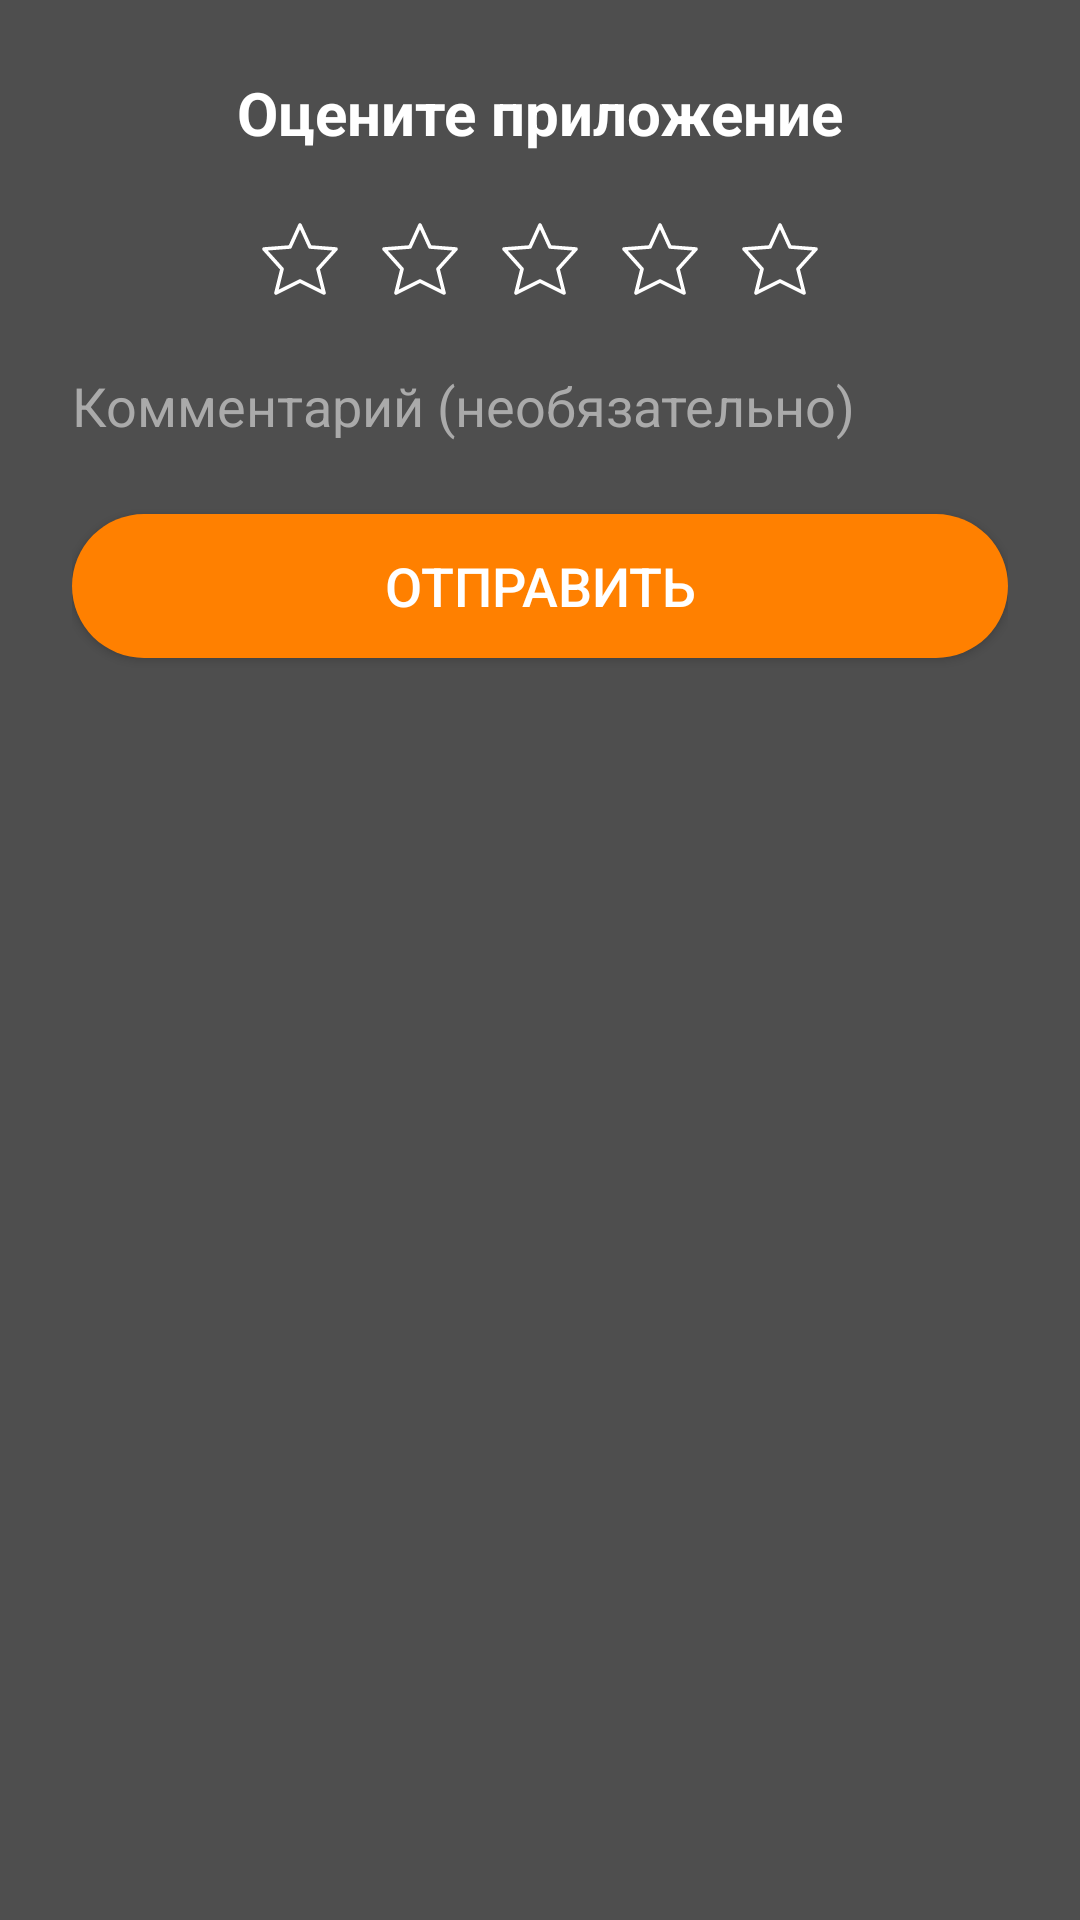

Where to tap for icons on this 1080*1920 app screen, as point (x, y):
star: point (300, 259), point (420, 259), point (540, 259), point (660, 259), point (780, 259)
